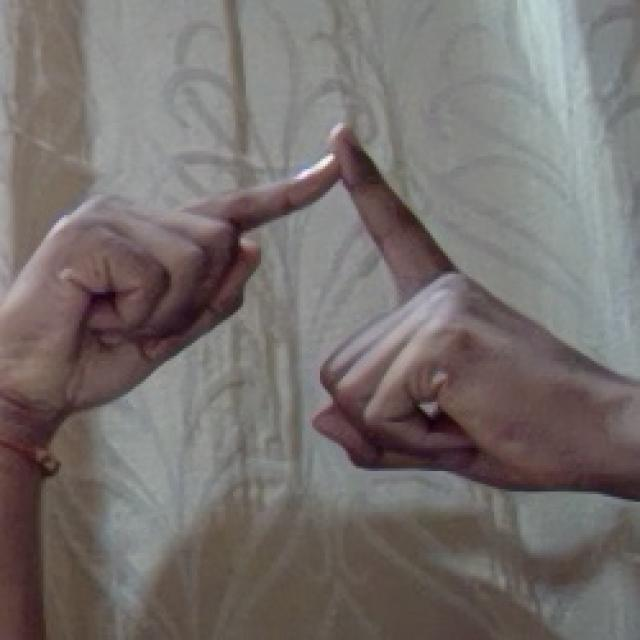Alphabet-E: (0, 125, 640, 640)
